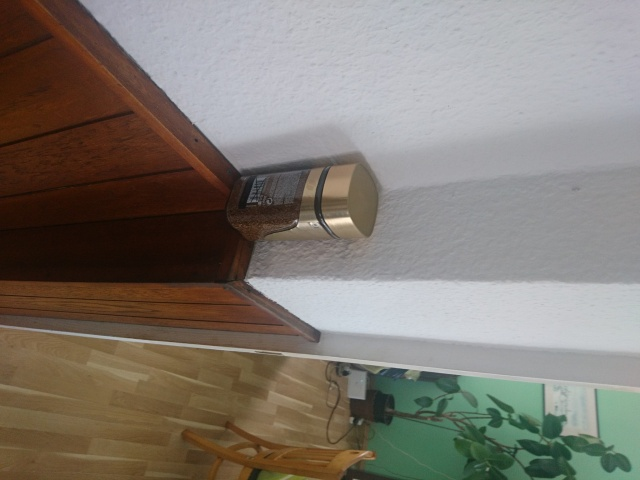Nescafe Gold 225g: (222, 160, 381, 245)
